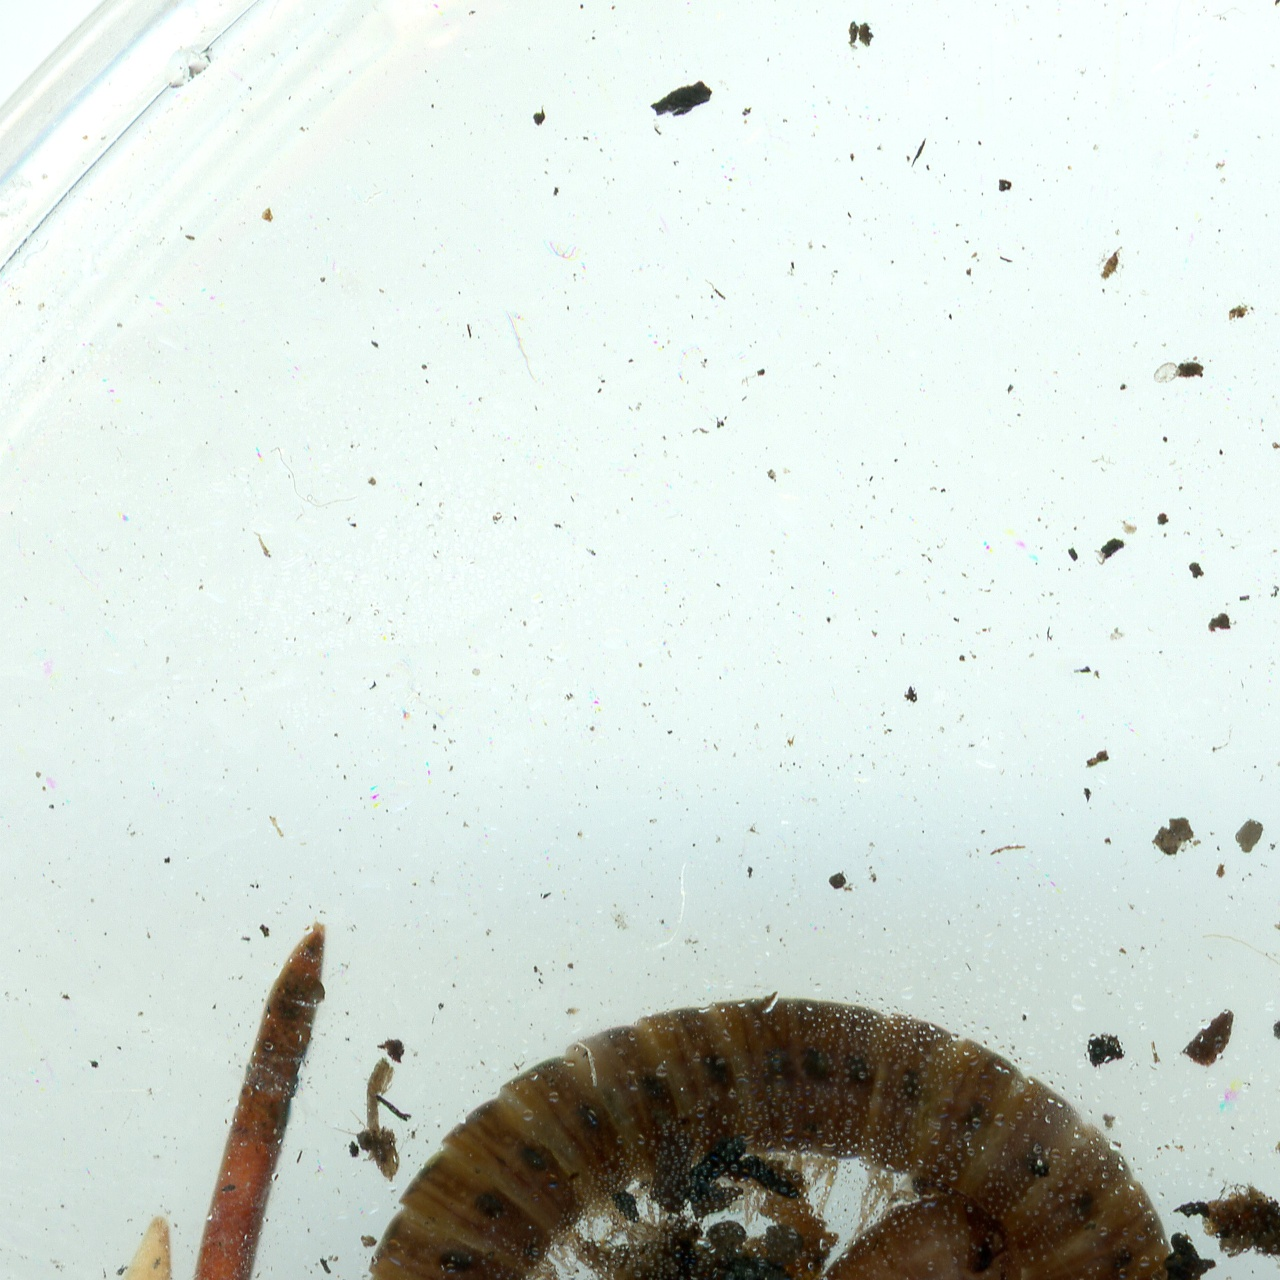arthropod: (341, 993, 1186, 1280), (331, 1108, 407, 1190)
